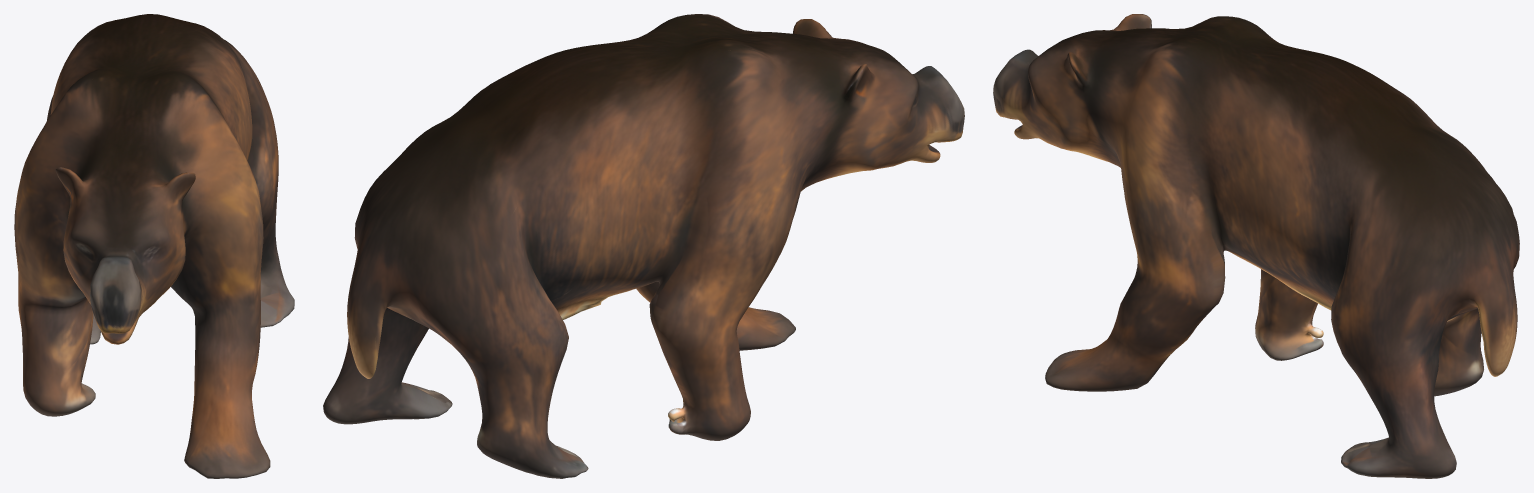
Rendered from oso.glb.
The picture shows the model from 3 angles, left to right: view 1: azimuth 30°, elevation 25°; view 2: azimuth 150°, elevation 25°; view 3: azimuth 270°, elevation 25°; orthographic projection. The views are drawn at different scales.
Visible parts, largest first — view 1: Oso; view 2: Oso; view 3: Oso.
Boxes of the visible parts, bbox=[...] form: Oso: bbox=[14, 14, 294, 478]; Oso: bbox=[323, 14, 964, 478]; Oso: bbox=[993, 14, 1519, 478].
Size of the model in its own units: 1.33 by 1.14 by 1.59.
Materials: 1 (1 with a texture image).
